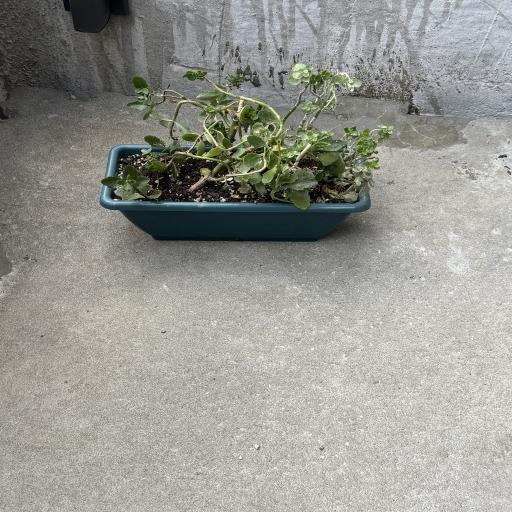Plant Pot: (100, 140, 372, 242)
